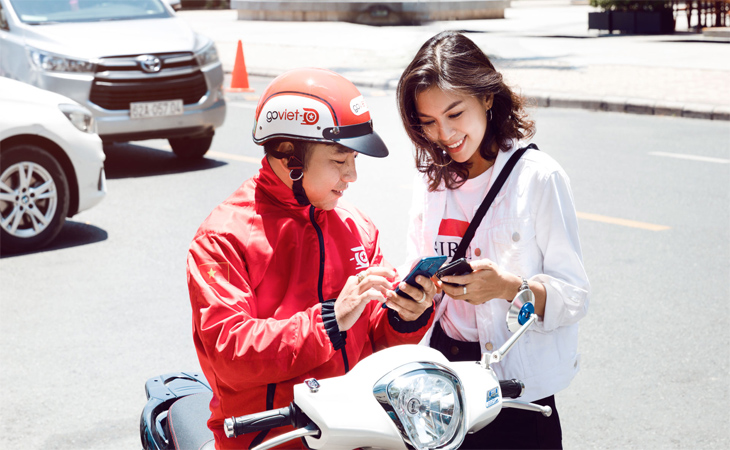su dung dien thoai: (253, 67, 445, 316)
